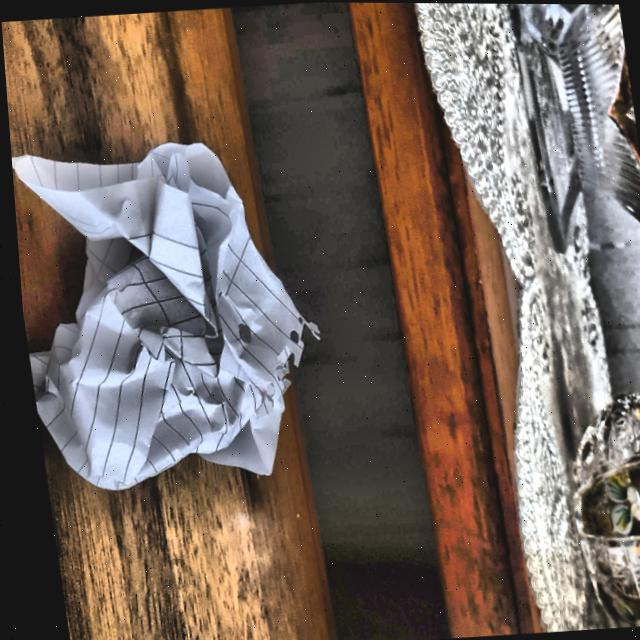paper: (7, 123, 332, 493)
